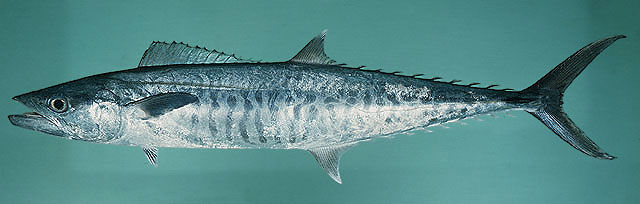fish: (9, 27, 629, 185)
